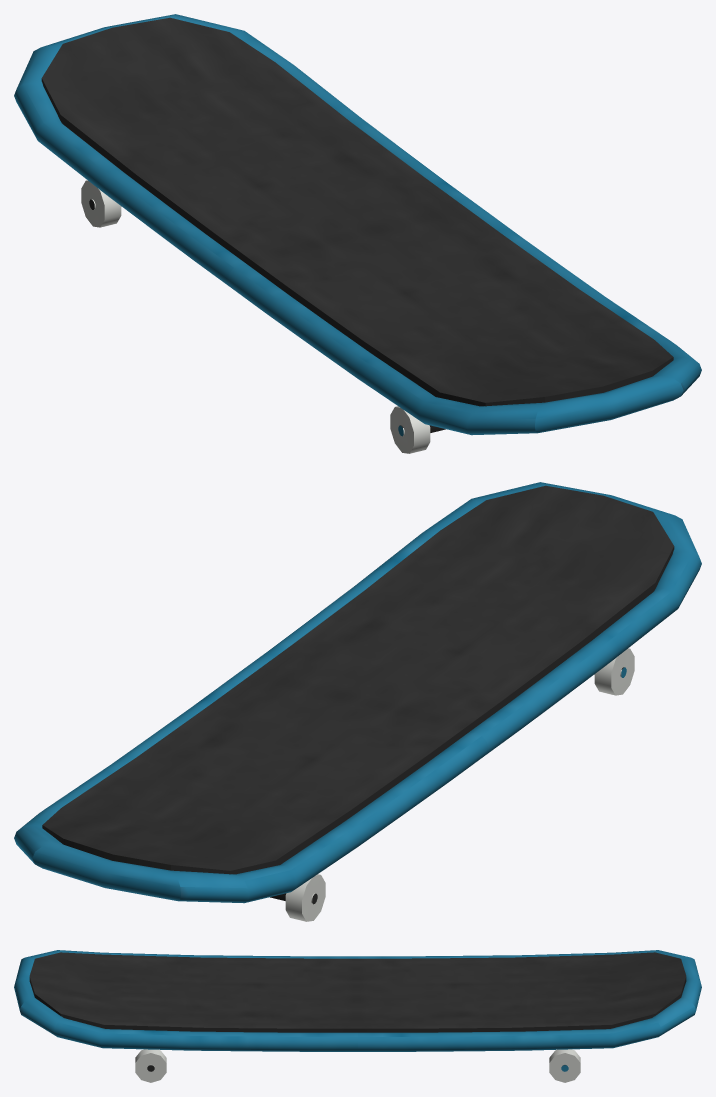
File: Skate_2.fbx
The picture shows the model from 3 angles, top to bottom: view 1: azimuth 30°, elevation 25°; view 2: azimuth 150°, elevation 25°; view 3: azimuth 270°, elevation 25°; orthographic projection. The views are drawn at different scales.
Parts seen in each view (by area): view 1: Skate_Base, Skate_Caoutchou, Skate_Roue_2, Skate_Roue_4; view 2: Skate_Base, Skate_Caoutchou, Skate_Roue_4, Skate_Roue_2; view 3: Skate_Base, Skate_Caoutchou, Skate_Roue_1, Skate_Roue_3.
Boxes of the visible parts, box(x1,y1,x2,y2) form: Skate_Base: box(41, 17, 673, 406); Skate_Caoutchou: box(14, 14, 701, 435); Skate_Roue_2: box(390, 406, 430, 453); Skate_Roue_4: box(81, 180, 121, 227); Skate_Base: box(42, 485, 674, 874); Skate_Caoutchou: box(14, 482, 701, 903); Skate_Roue_4: box(285, 874, 325, 921); Skate_Roue_2: box(594, 648, 634, 695); Skate_Base: box(29, 952, 686, 1032); Skate_Caoutchou: box(14, 950, 701, 1051); Skate_Roue_1: box(135, 1049, 166, 1082); Skate_Roue_3: box(549, 1049, 580, 1082).
Size of the model in its own units: 26.66 by 10.35 by 91.08.
